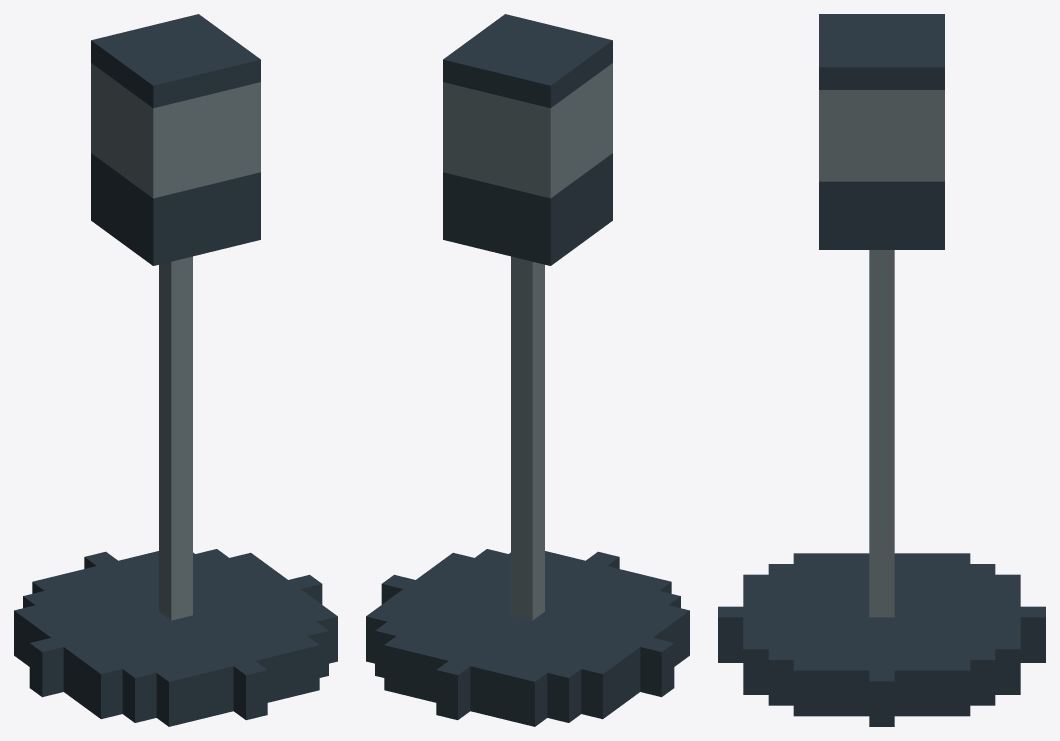
File: music-04.glb
3 views of the same model, side by side, from view 1: azimuth 30°, elevation 25°; view 2: azimuth 150°, elevation 25°; view 3: azimuth 270°, elevation 25° (orthographic).
Visible parts, largest first — view 1: Studio microphone; view 2: Studio microphone; view 3: Studio microphone.
Boxes of the visible parts, <box> form: Studio microphone: <box>14,14,337,726</box>; Studio microphone: <box>366,14,689,726</box>; Studio microphone: <box>718,14,1045,726</box>.
Bounding box in the file's own units: 1.04 × 2.16 × 1.04.
